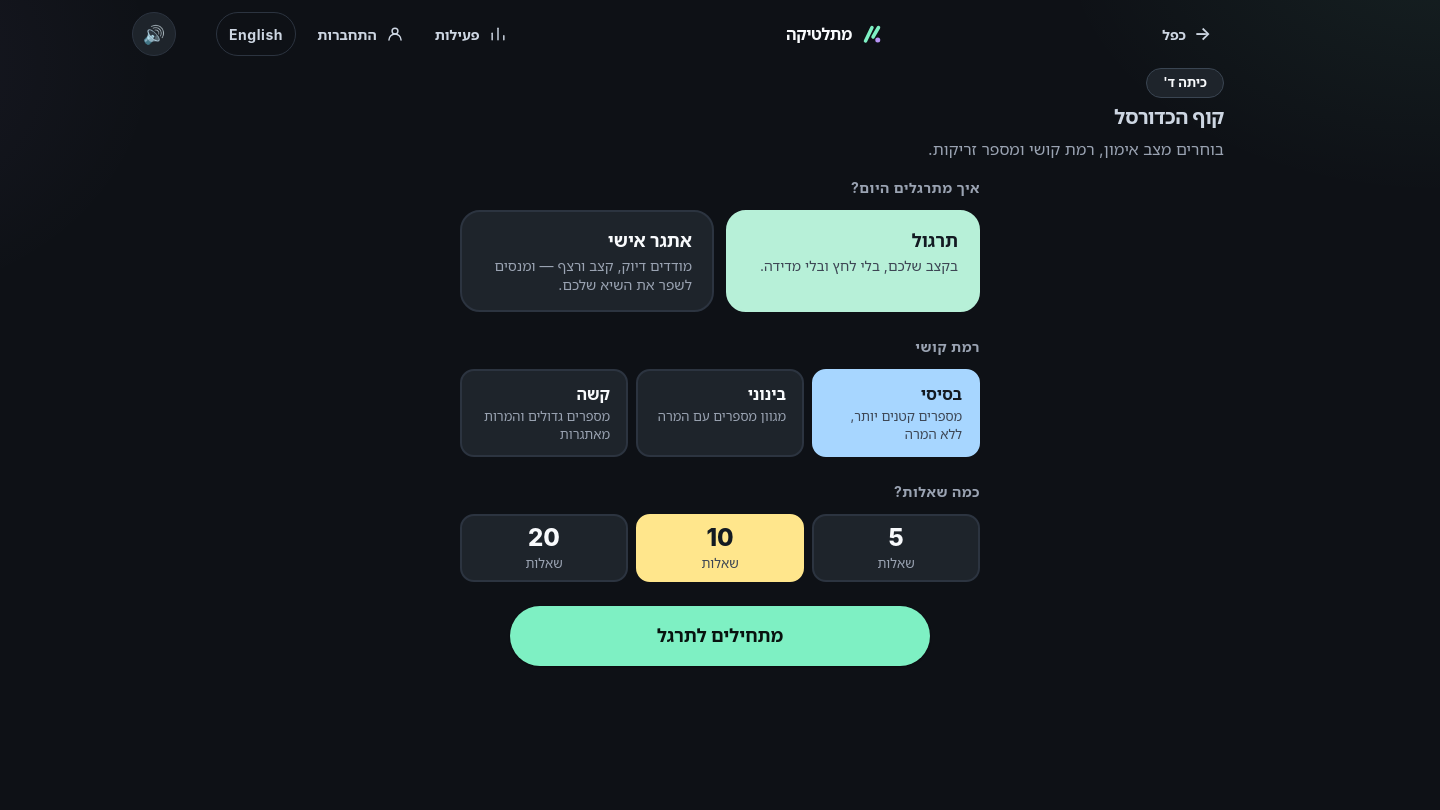
Scenario: Basketball Monkey training activity › uses the shared challenge streak and eligible question counts
Click the button with test id "tr-mode-challenge" at x=587, y=260, box [460,210,714,312]
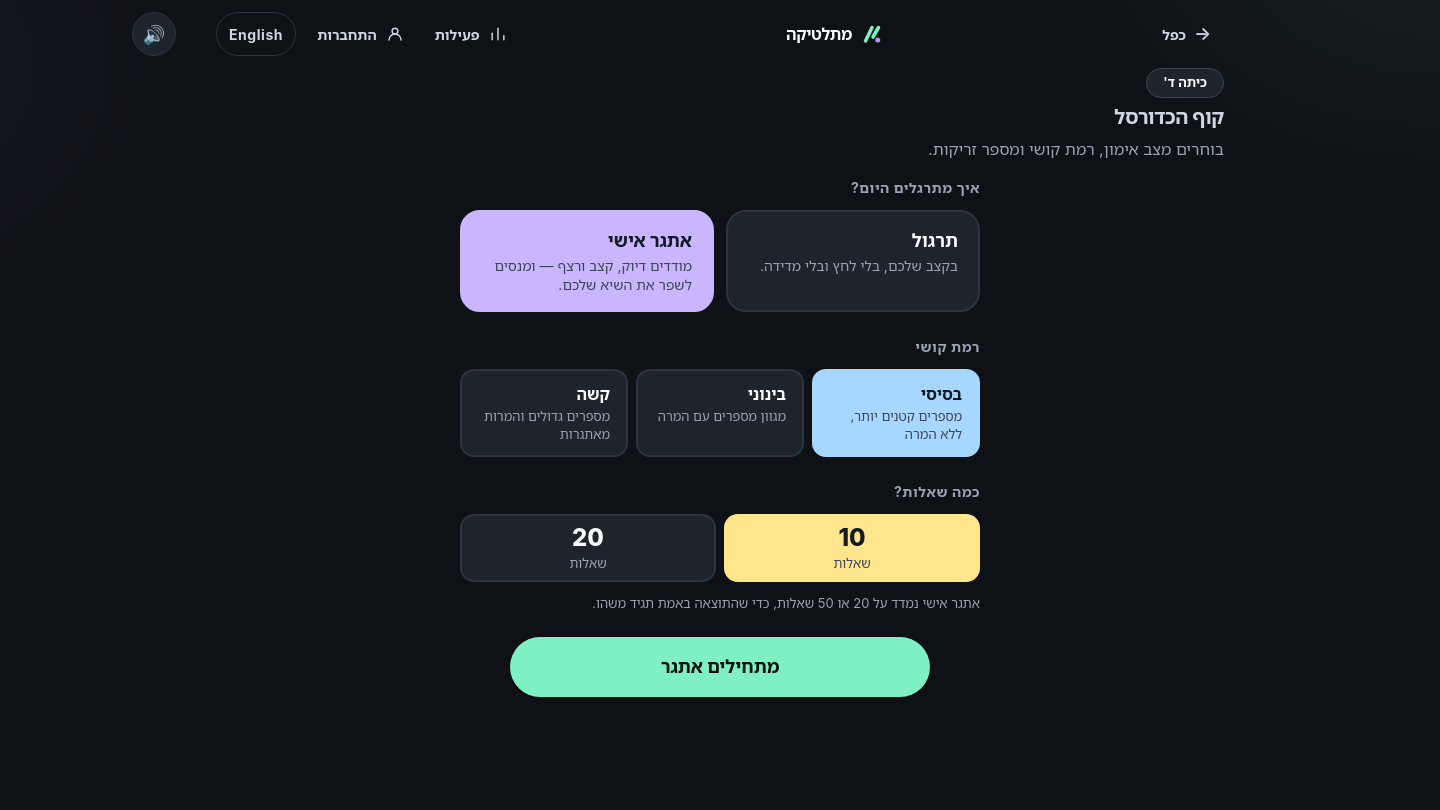
expect the button with test id "tr-count-10" is shown: met, box [724,514,980,582]
expect the button with test id "tr-count-5" is gone: met
Click the button with test id "tr-start" at x=720, y=667, box [510,637,930,697]
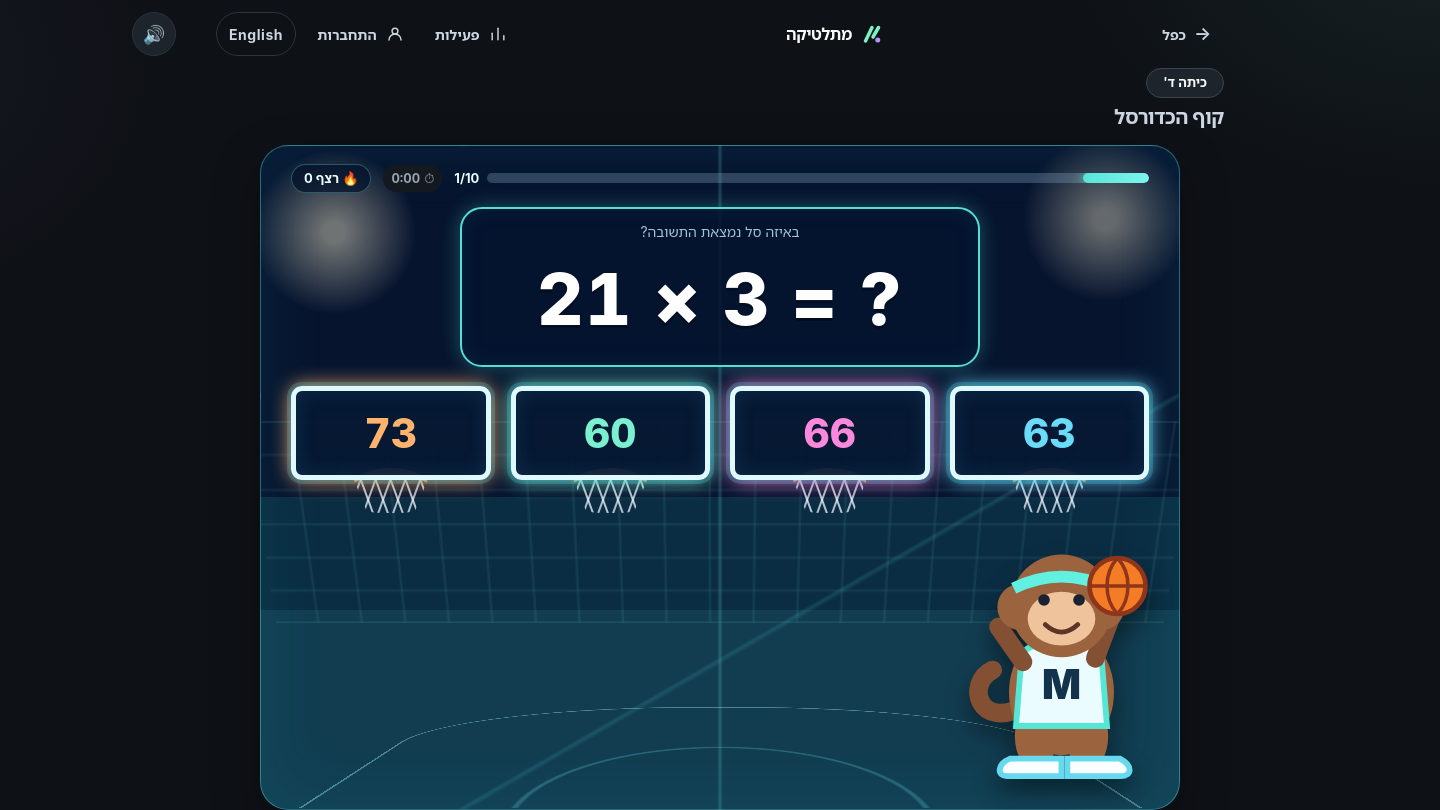
expect the text "🔥 רצף 0" is shown: met, box [291,164,371,193]
